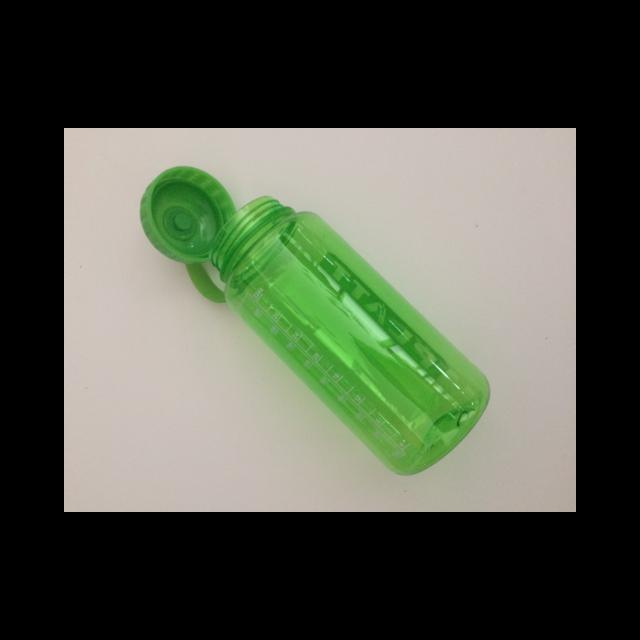plastic: (208, 195, 490, 475), (140, 165, 295, 303)
